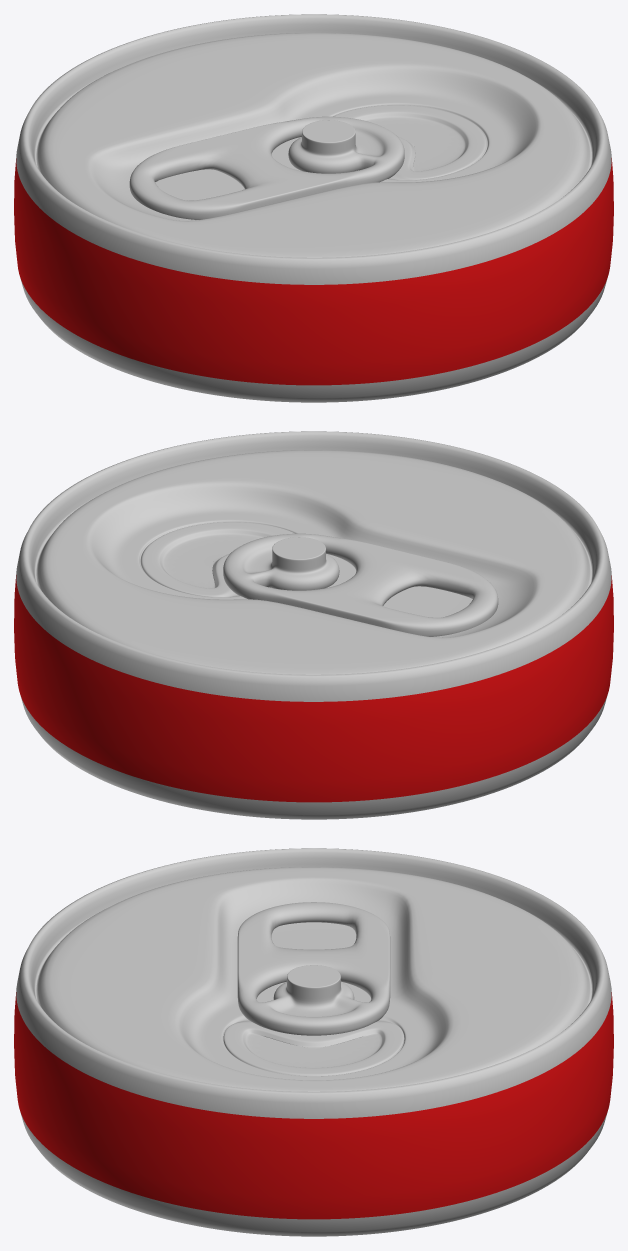
The model's file is can_red.fbx.
The picture shows the model from 3 angles, top to bottom: view 1: azimuth 30°, elevation 25°; view 2: azimuth 150°, elevation 25°; view 3: azimuth 270°, elevation 25°; orthographic projection.
Parts seen in each view (by area): view 1: 원형, 원형.001; view 2: 원형, 원형.001; view 3: 원형, 원형.001.
Boxes of the visible parts, x1,y1,x2,y2 form: 원형: [14, 14, 613, 402]; 원형.001: [129, 116, 404, 219]; 원형: [14, 431, 613, 819]; 원형.001: [223, 533, 498, 636]; 원형: [14, 848, 613, 1236]; 원형.001: [237, 902, 390, 1035].
Size of the model in its own units: 488 by 133 by 488.
